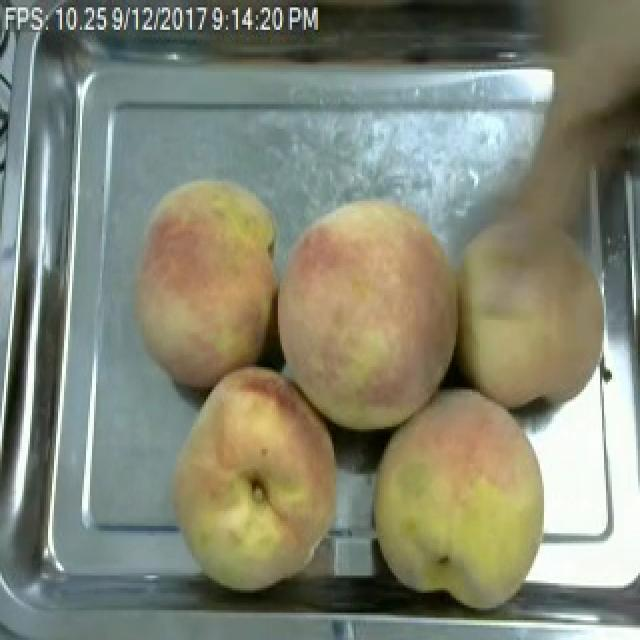Fruit: (268, 189, 470, 444), (360, 372, 558, 623), (162, 357, 356, 603), (448, 194, 620, 419), (124, 169, 288, 399)
